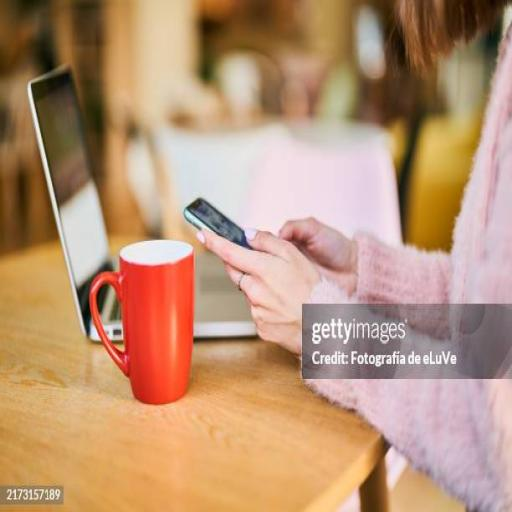cup: (89, 240, 195, 406)
phone: (184, 196, 256, 253)
